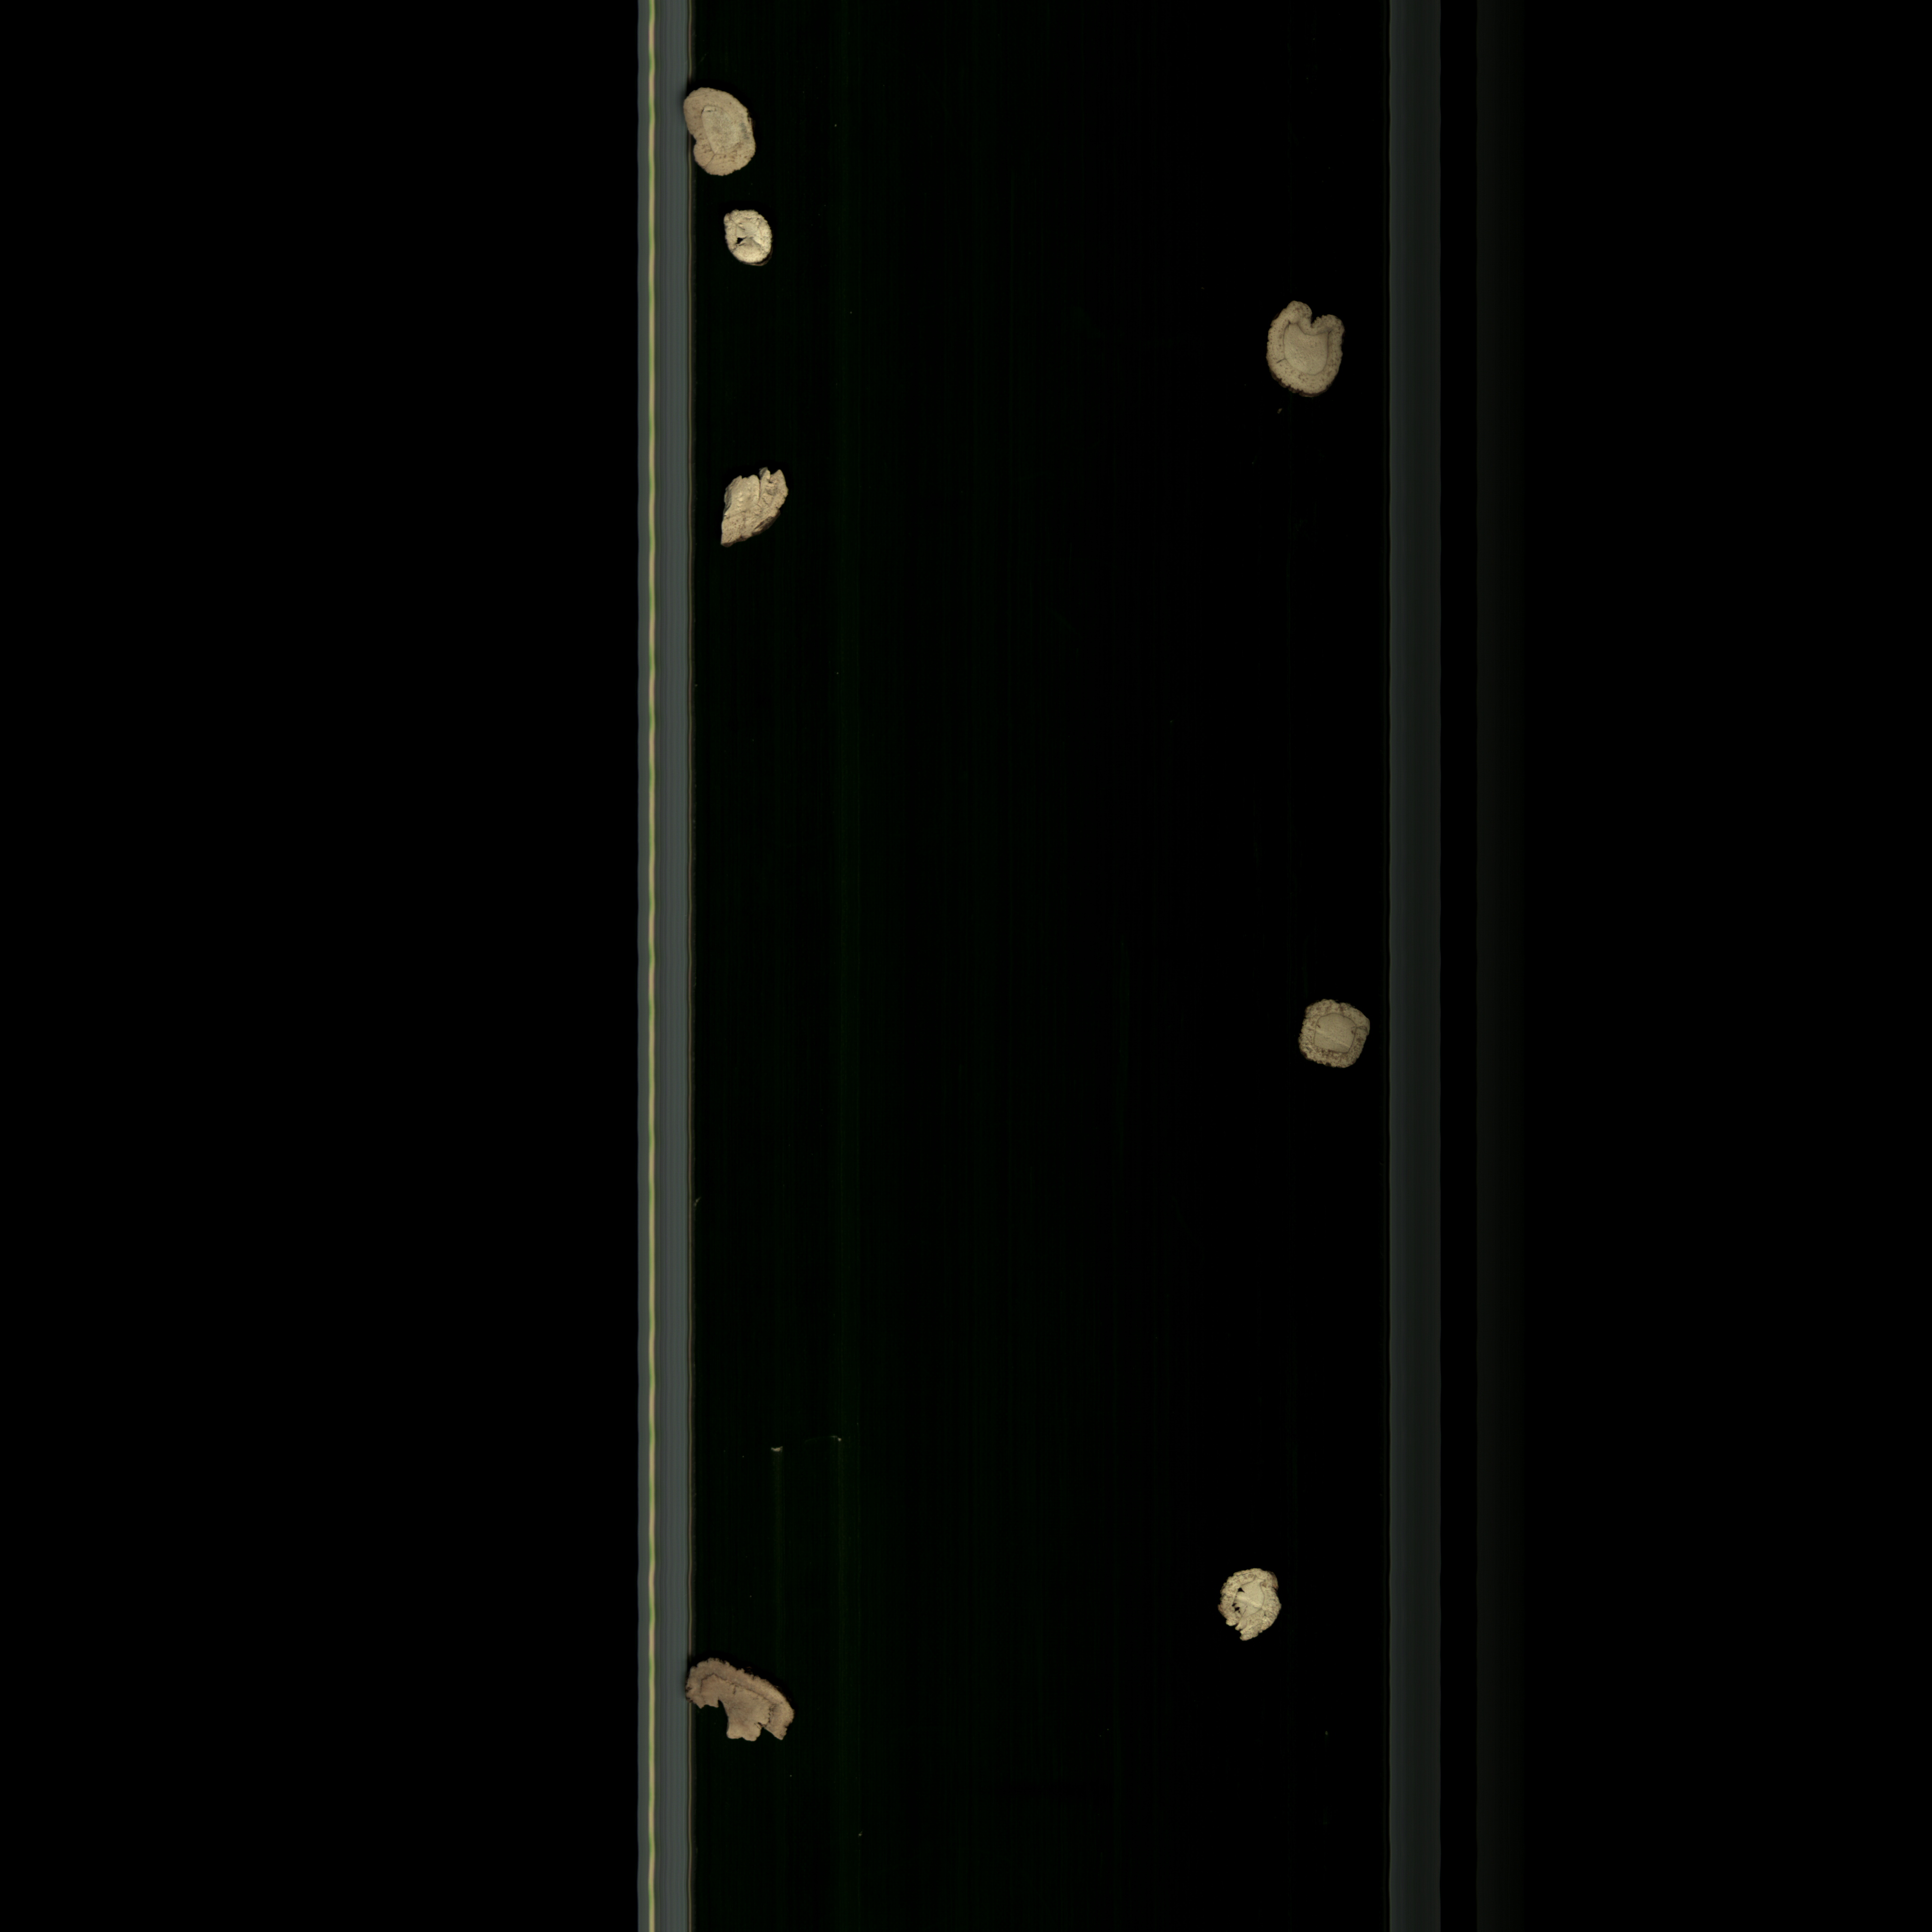debris: (706, 458, 816, 556), (1210, 1560, 1295, 1663)
distortion: (1261, 288, 1352, 412)
hole: (717, 202, 793, 285)
moldy: (690, 1645, 798, 1757), (678, 81, 775, 184)
